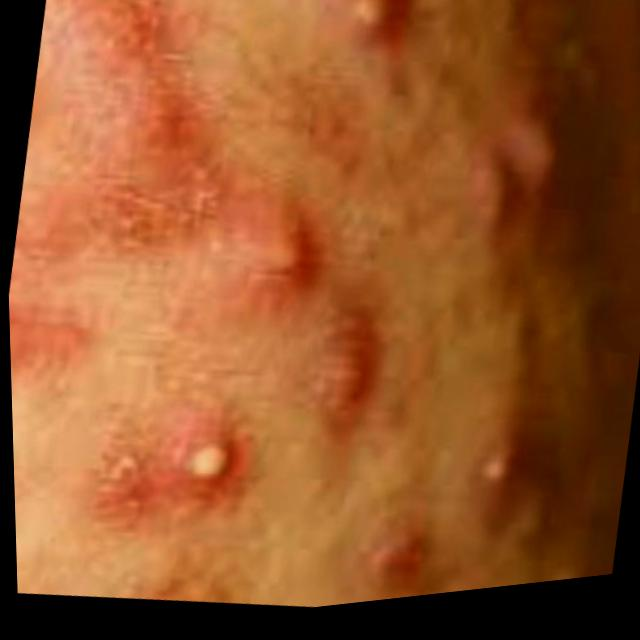pustule: (111, 385, 281, 549), (280, 0, 431, 81)
